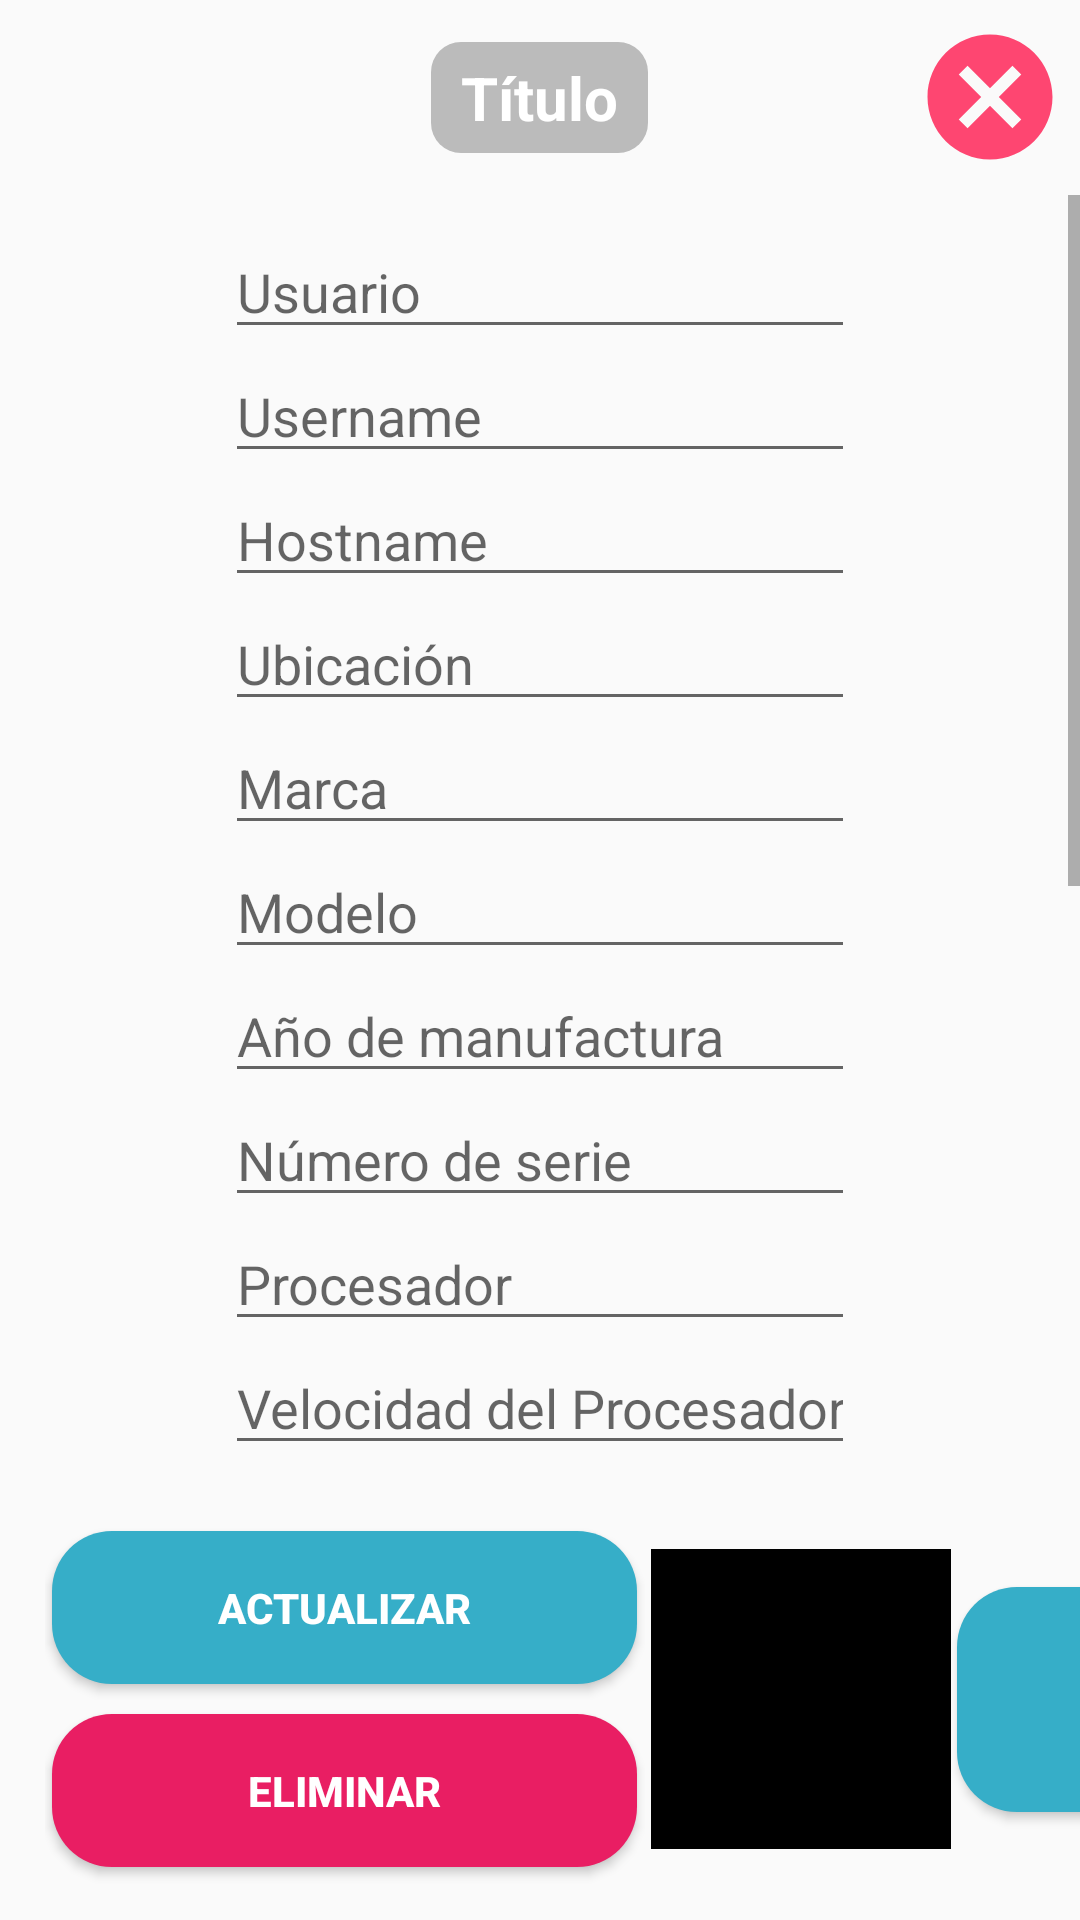

Icon bounding boxes for this 1080w x 1920h phone screenshot, format [x1, y1, x2, y2]:
close: [927, 34, 1053, 160]
